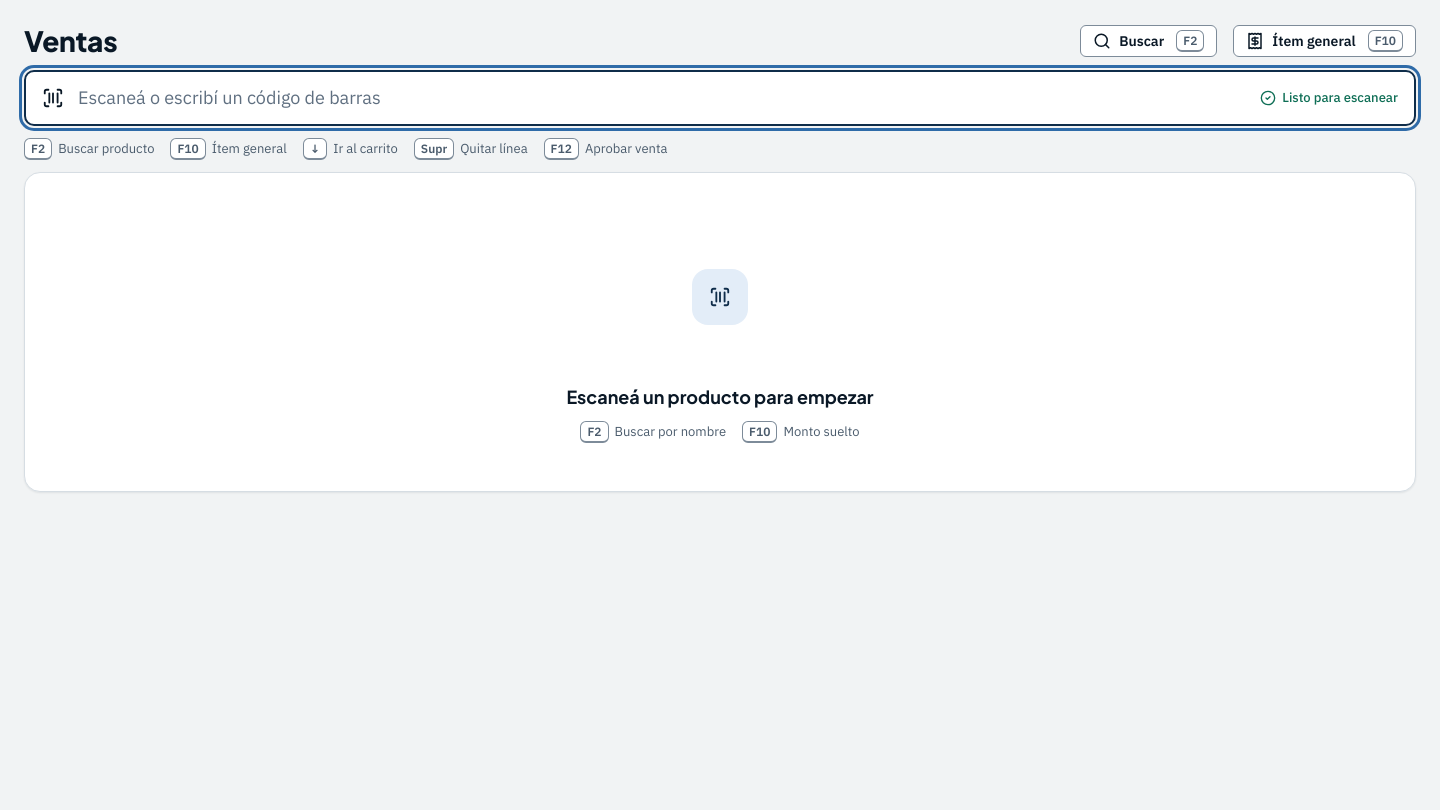
Sells — atajos de teclado › elegir un producto en F2 lo agrega al carrito
Press F2
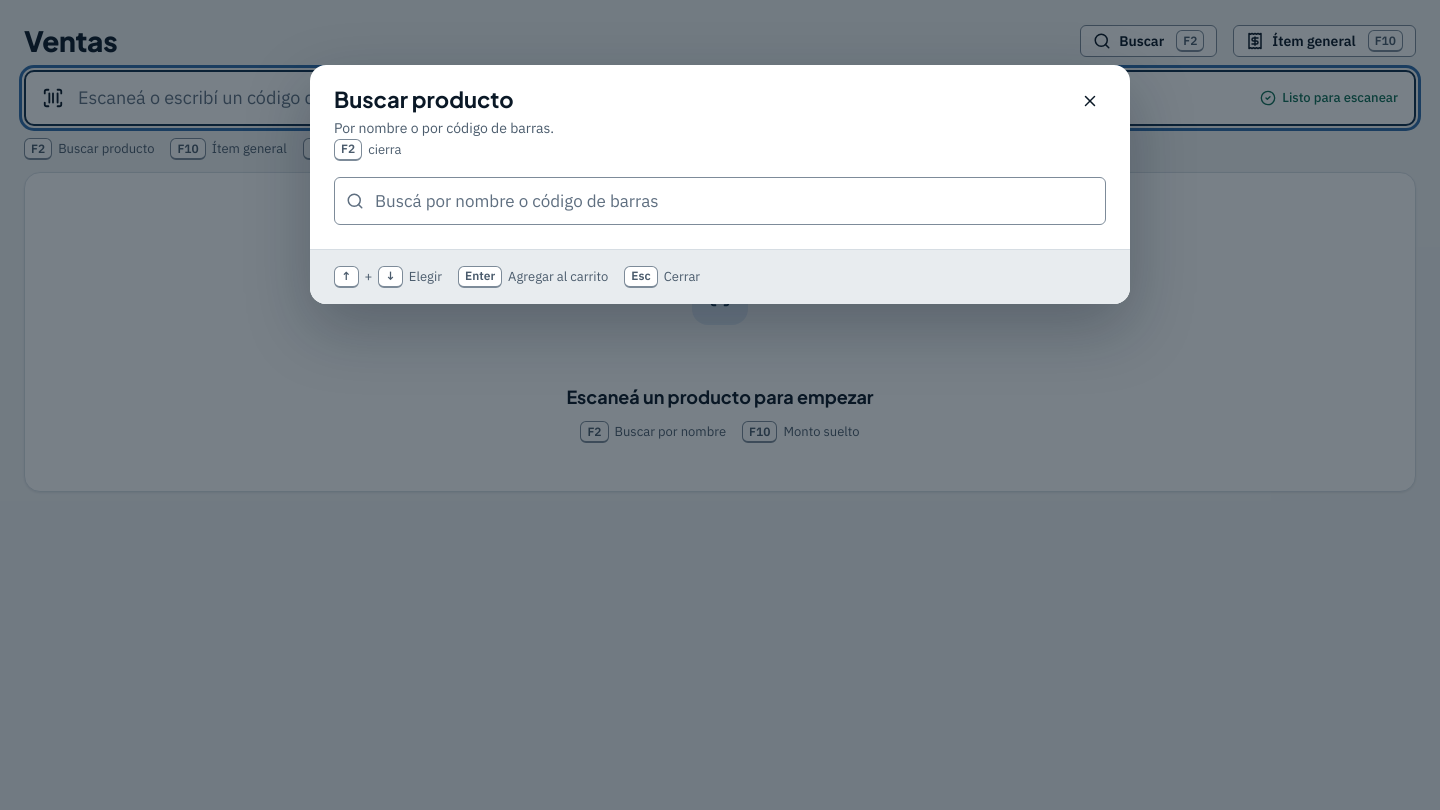
Type "coca" into the field named "Buscar producto".
click(720, 201); type("coca")  # box [334,177,1106,225]
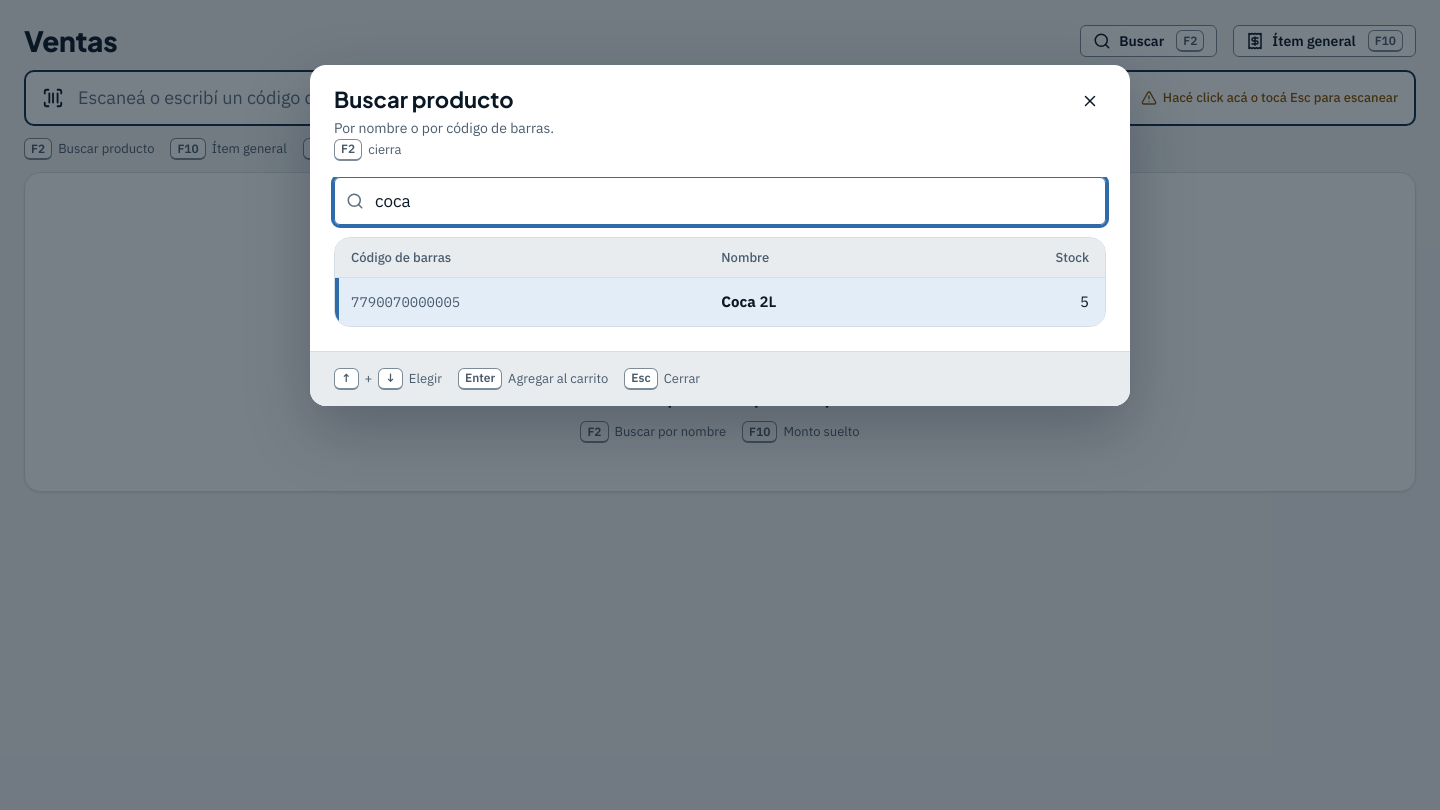
Click the cell "Coca 2L".
click(819, 302)  # box [705,278,933,326]
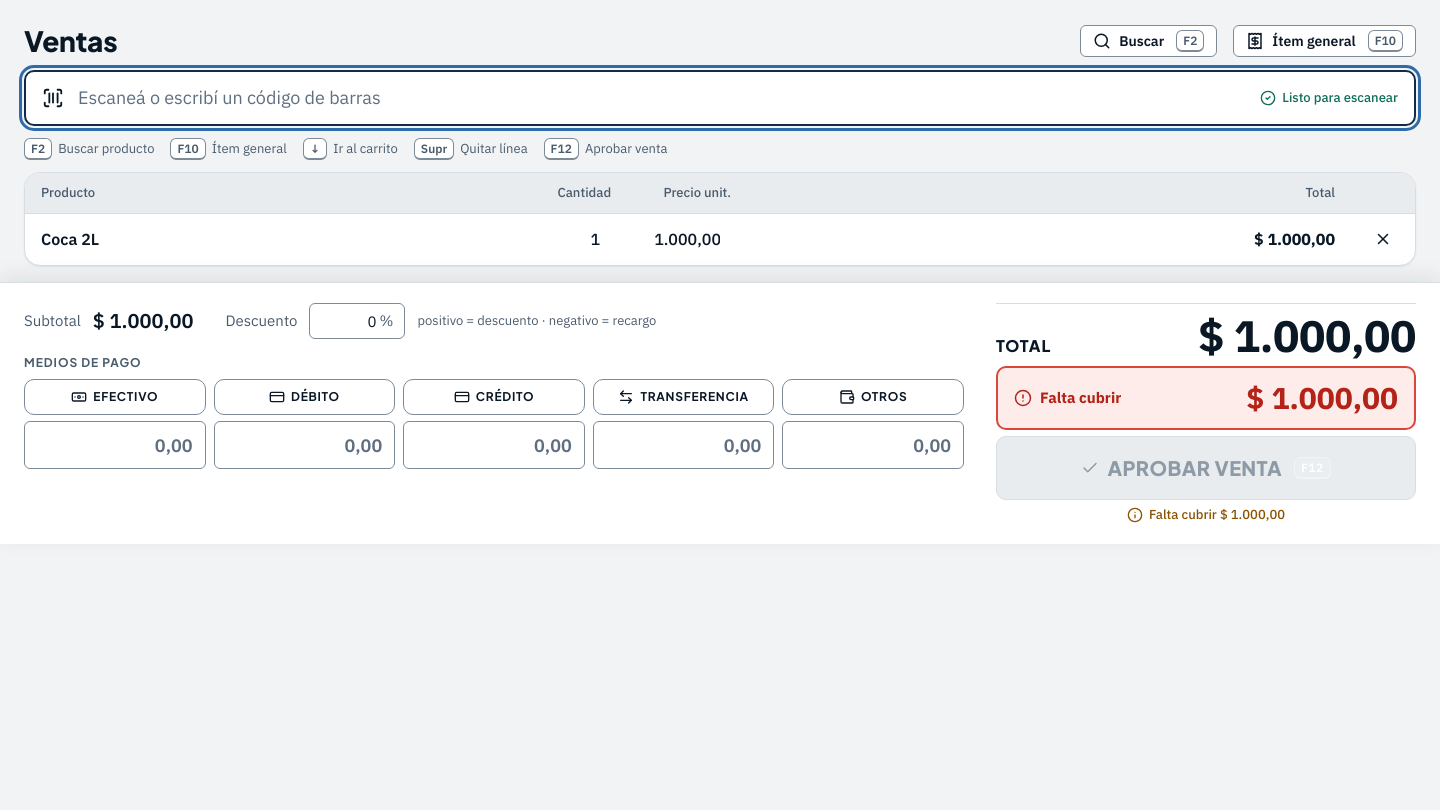
Expected: the field named "Cantidad de Coca 2L" is shown, [523,221,611,257]
Expected: the dialog is gone
